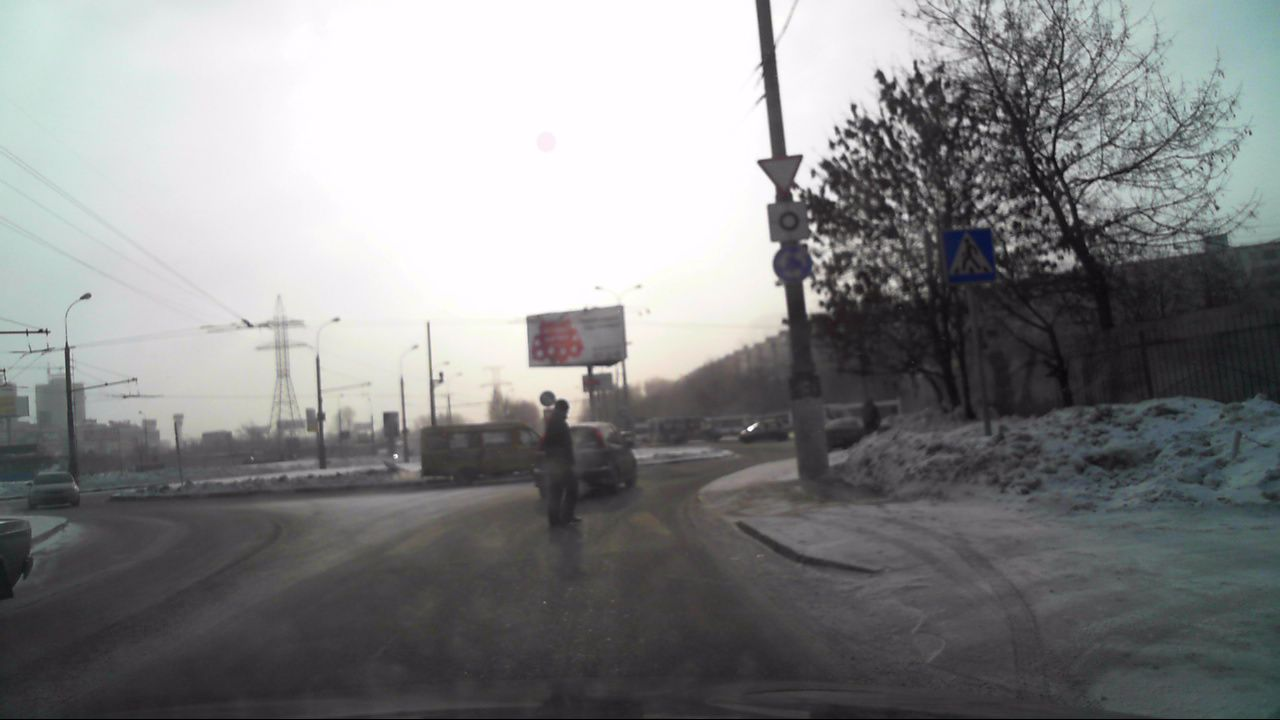Round-About: (772, 247, 813, 283)
